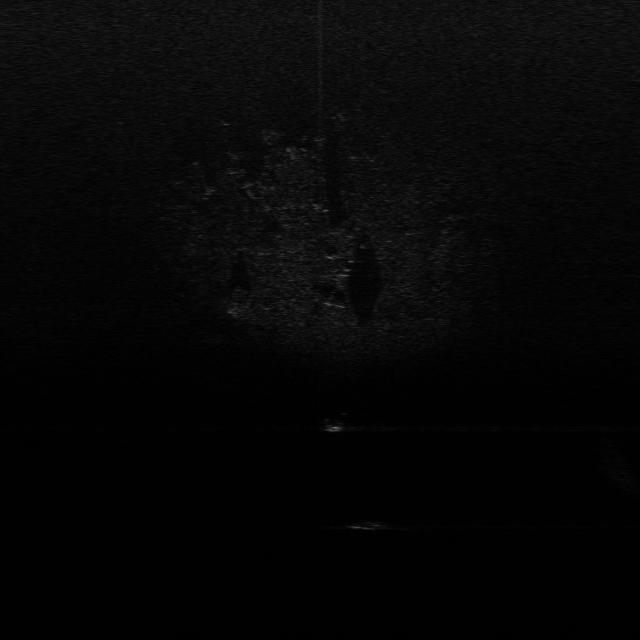cube: (346, 518, 393, 532)
square cage: (321, 415, 347, 434)
